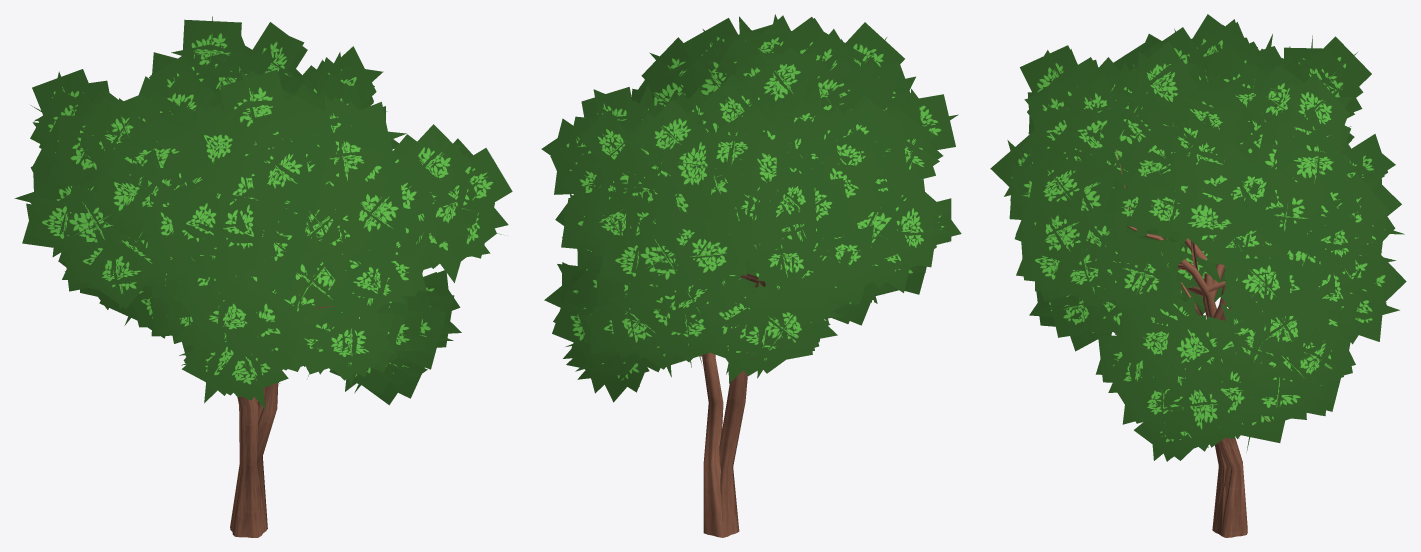
File: Tree_01.glb
The picture shows the model from 3 angles, left to right: view 1: azimuth 30°, elevation 25°; view 2: azimuth 150°, elevation 25°; view 3: azimuth 270°, elevation 25°; orthographic projection. The views are drawn at different scales.
Parts seen in each view (by area): view 1: Tree_01; view 2: Tree_01; view 3: Tree_01.
Part boxes in pixels (x1=…): Tree_01: x1=14, y1=16, x2=512, y2=537; Tree_01: x1=541, y1=14, x2=961, y2=537; Tree_01: x1=990, y1=14, x2=1406, y2=537.
Size of the model in its own units: 7.18 by 7.95 by 6.37.
2 materials, 2 textured.
